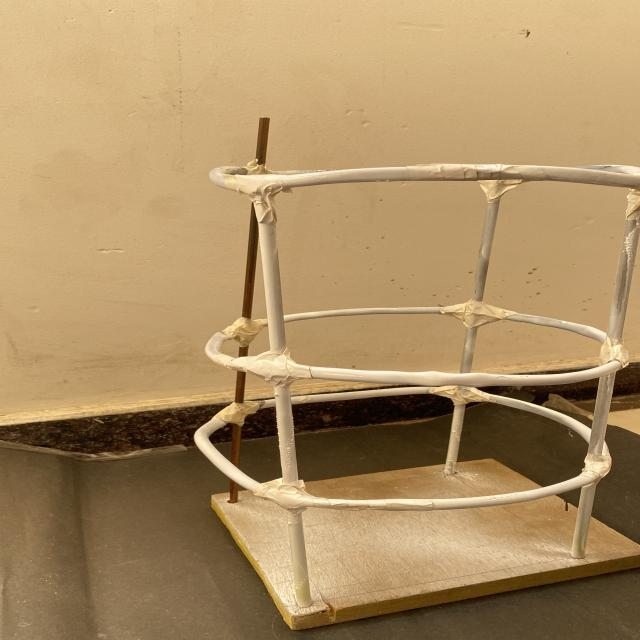silo: (195, 121, 640, 574)
